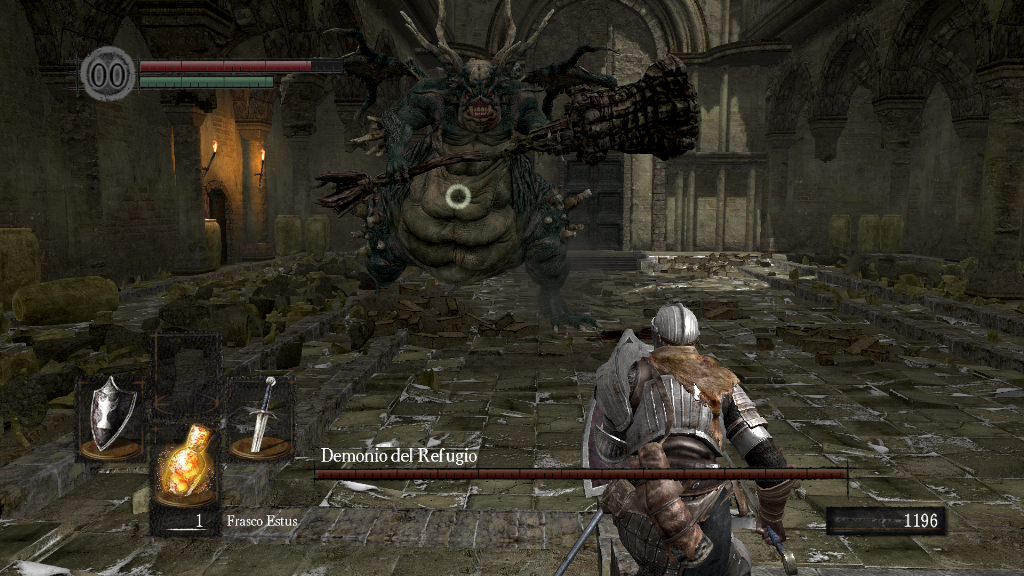asylumDemon: (303, 1, 708, 338)
bossHP: (314, 469, 847, 479)
health: (138, 58, 343, 71)
humanity: (80, 45, 136, 102)
player: (580, 301, 796, 576)
souls: (825, 506, 945, 536)
stamina: (138, 74, 274, 88)
